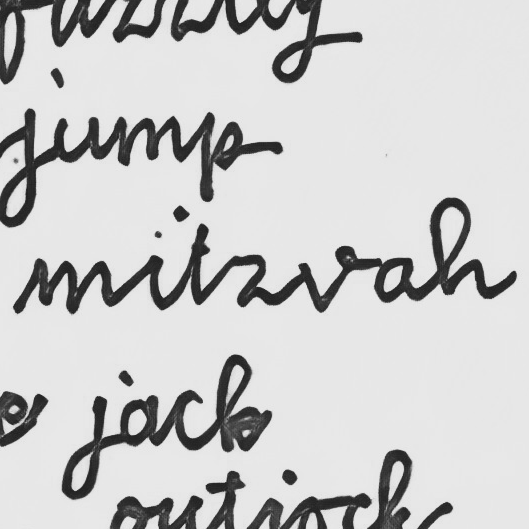a: (370, 253, 417, 306)
h: (426, 195, 490, 301)
i: (141, 228, 169, 312)
m: (33, 255, 117, 316)
t: (182, 221, 217, 308)
v: (295, 247, 357, 314)
z: (225, 250, 274, 310)
